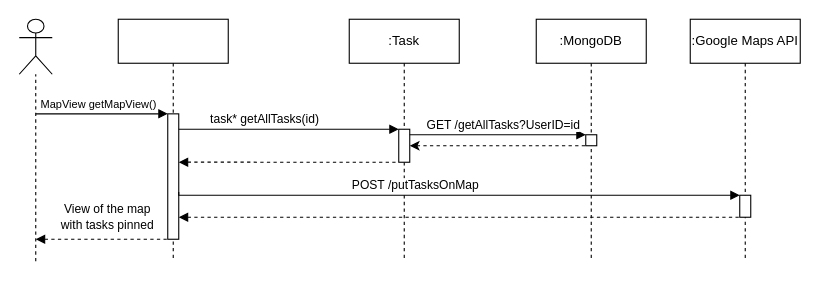
Some shapes in this 820 by 282 pixel diagram are drawn without their labels. Here are the shapes that lost their labels. From the top down, the centre of each, then its label:
(35,46): User
(172,139): :FrontEnd
